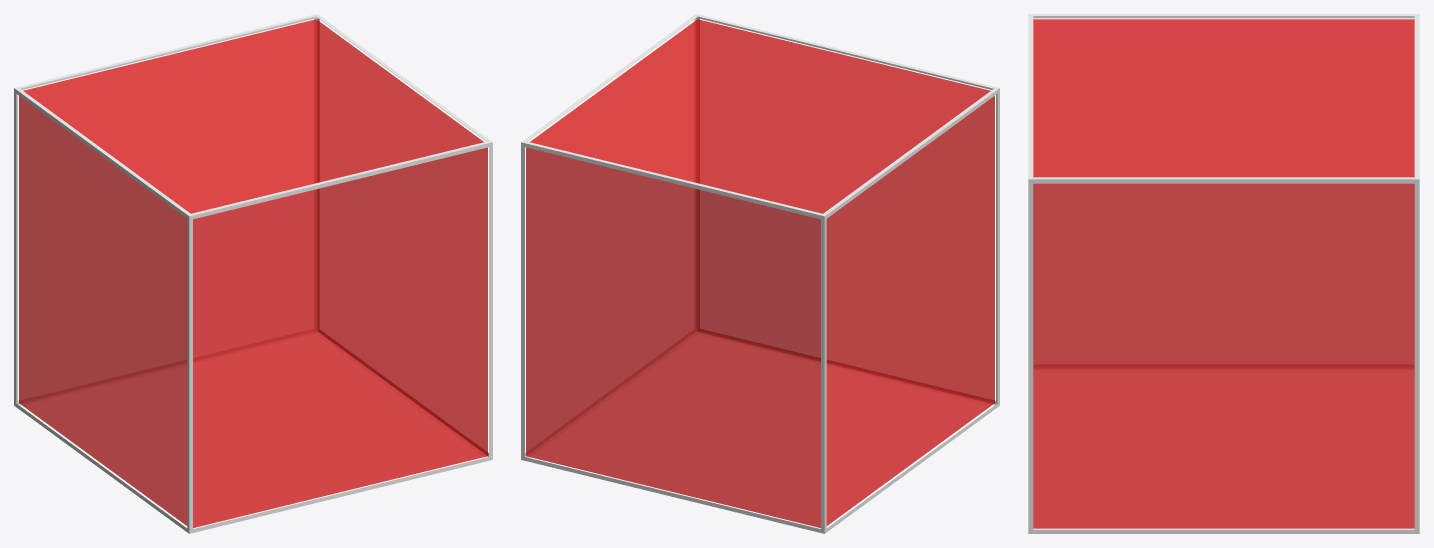
The model's file is Wall.fbx.
3 renders of one model, left to right at view 1: azimuth 30°, elevation 25°; view 2: azimuth 150°, elevation 25°; view 3: azimuth 270°, elevation 25°, orthographic. The views are drawn at different scales.
Visible parts, largest first — view 1: Cube; view 2: Cube; view 3: Cube.
Part boxes in pixels (left/top/right/bottom): Cube: left=14, top=14, right=492, bottom=533; Cube: left=521, top=14, right=999, bottom=533; Cube: left=1028, top=14, right=1419, bottom=533.
Size of the model in its own units: 100 by 100 by 100.
